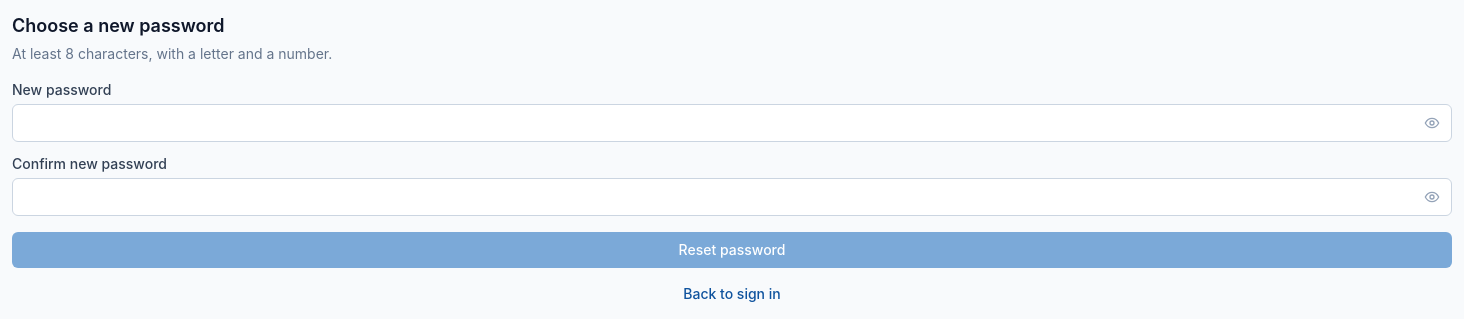
Test: ADR-058 — Reset password › resets, then tells them they are signed out everywhere and must sign in
Type "GoodPass123" into the password field labelled "New password" at (732, 123), box [12, 104, 1452, 142]
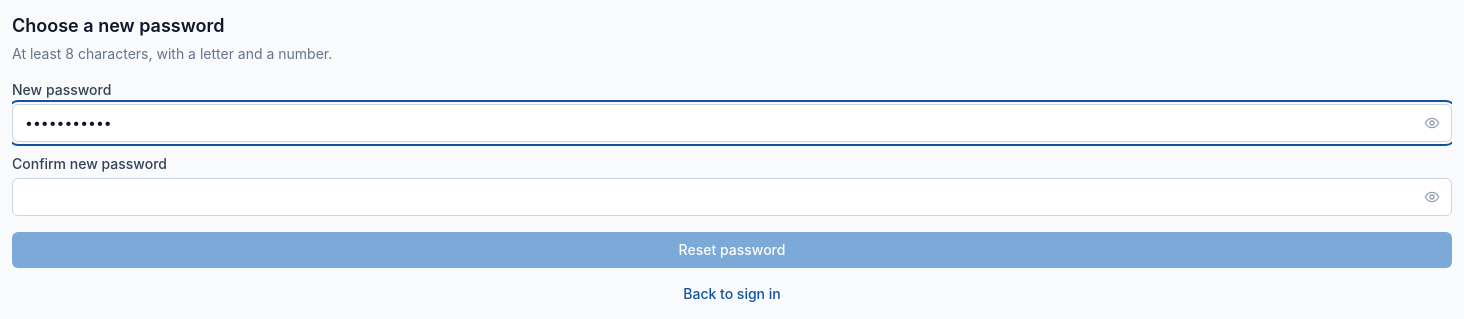
Type "GoodPass123" into the password field labelled "Confirm new password" at (732, 197), box [12, 178, 1452, 216]
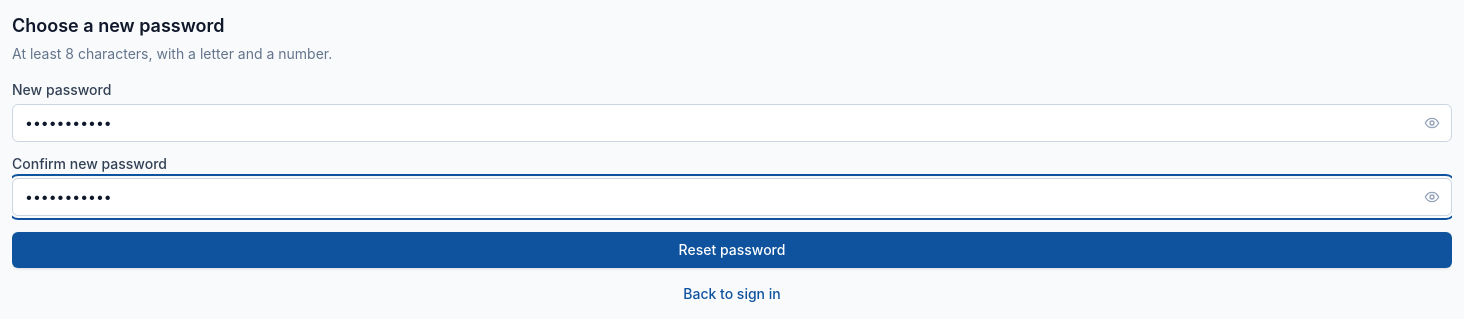
Click the button "Reset password" at (732, 250), box [12, 232, 1452, 268]
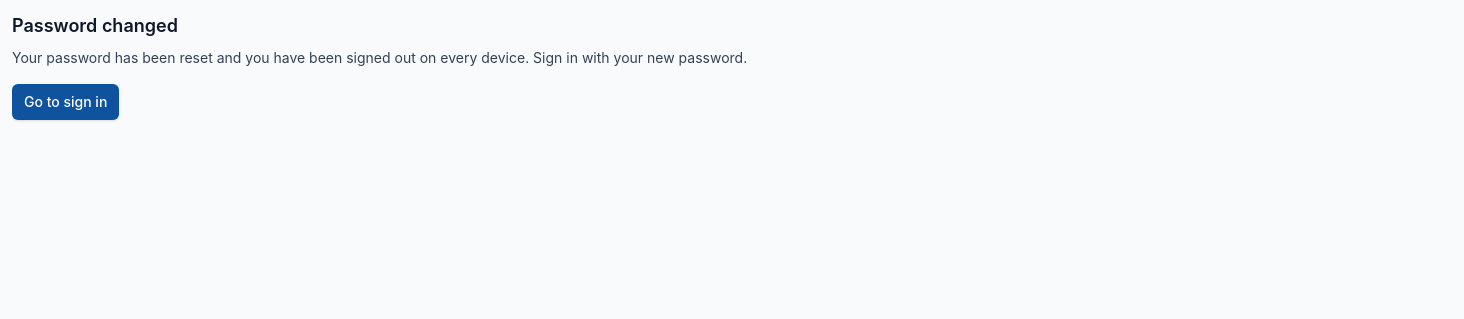
Now the message shows "signed out on every device", box [12, 49, 747, 66]
